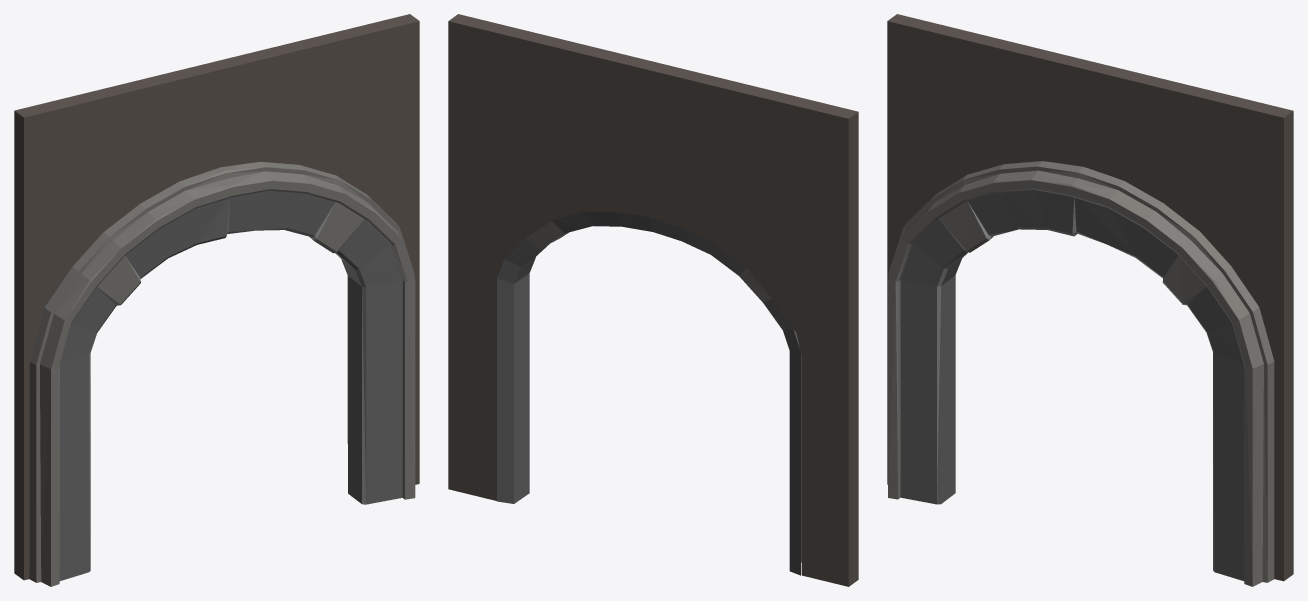
File: MCastle_ArchDoors_07.FBX
3 renders of one model, left to right at view 1: azimuth 30°, elevation 25°; view 2: azimuth 150°, elevation 25°; view 3: azimuth 330°, elevation 25°, orthographic.
Visible parts, largest first — view 1: MCastle_ArchDoors_07_LOD0; view 2: MCastle_ArchDoors_07_LOD0; view 3: MCastle_ArchDoors_07_LOD0.
Boxes of the visible parts, box(x1,y1,x2,y2) form: MCastle_ArchDoors_07_LOD0: box(14, 14, 419, 586); MCastle_ArchDoors_07_LOD0: box(448, 14, 858, 586); MCastle_ArchDoors_07_LOD0: box(887, 14, 1293, 586).
Size of what is drawn, in the model's own units: 4 by 4.46 by 0.4313.
